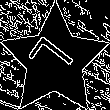L_SE: (27, 33, 83, 88)
